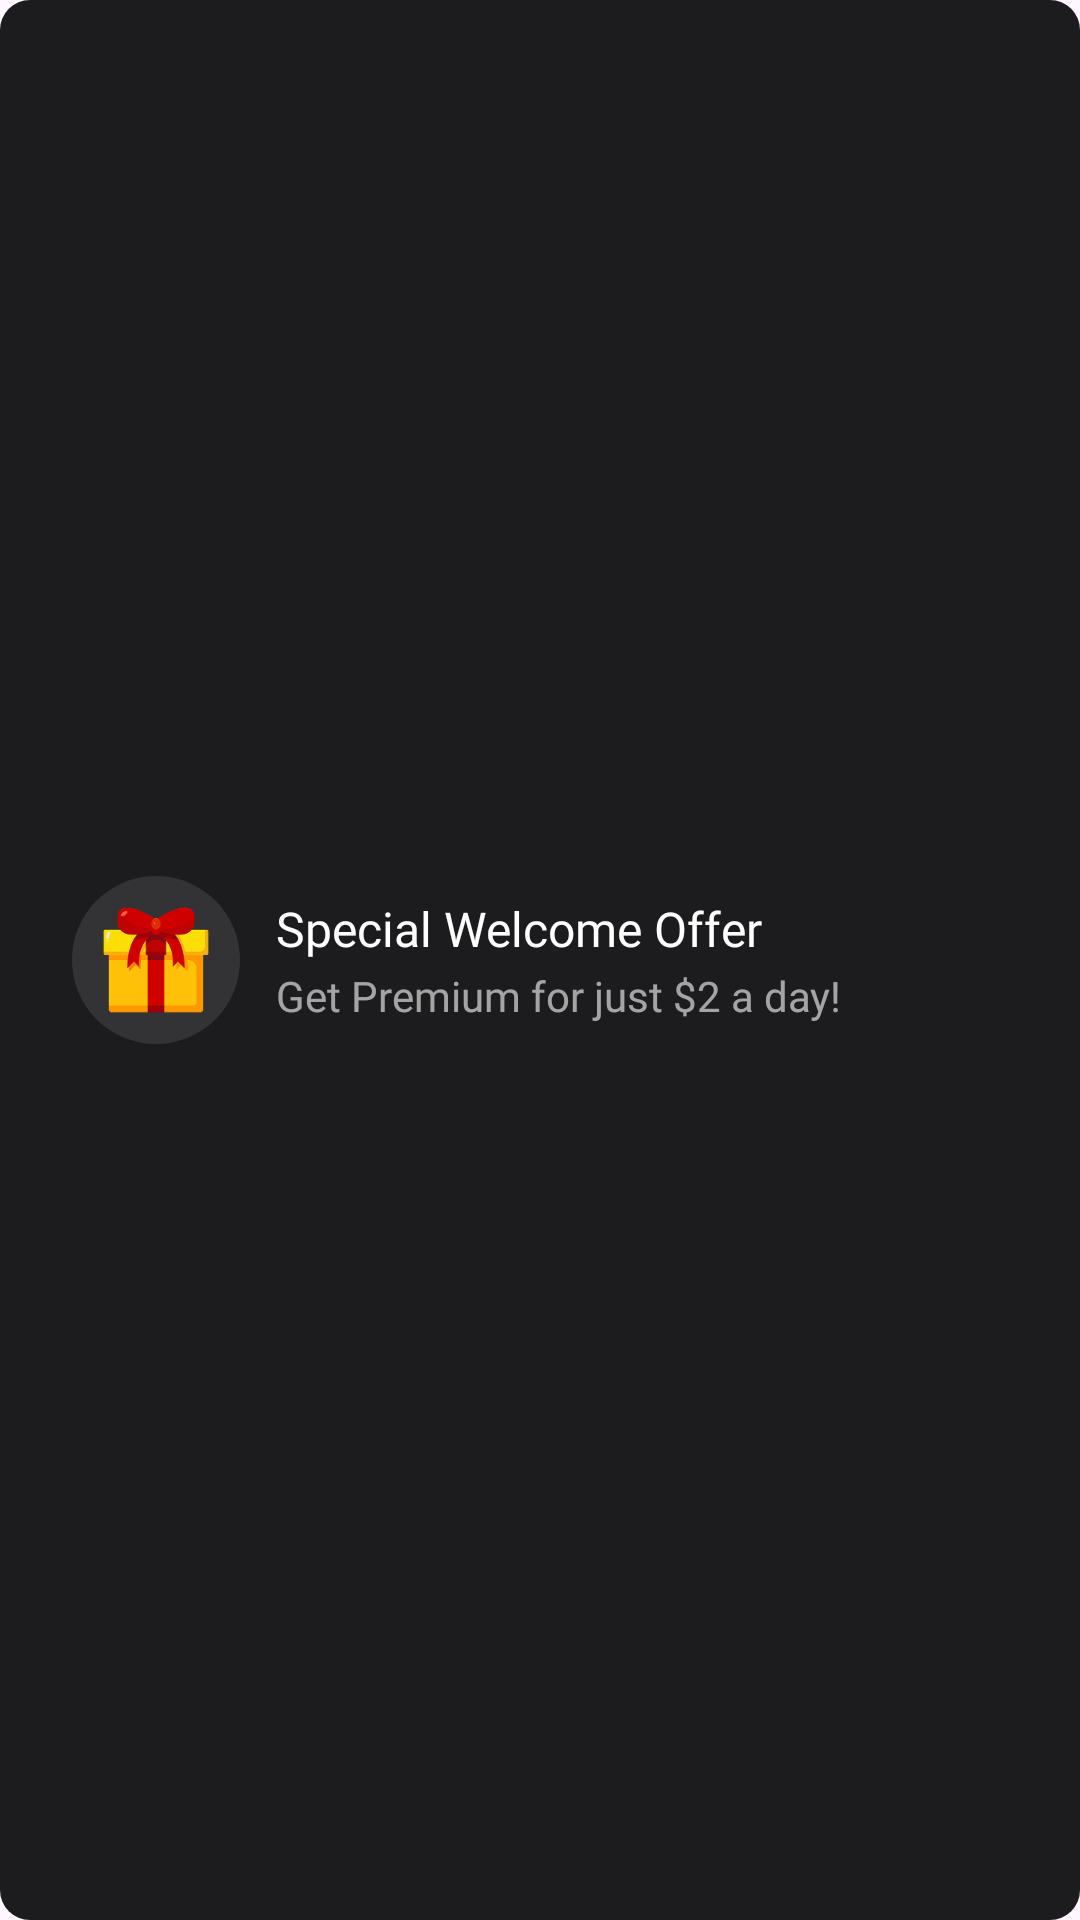

Point at icon controls on the screen. Image size 1080px x 1920px, points as [x,y].
gift: [156,960]
